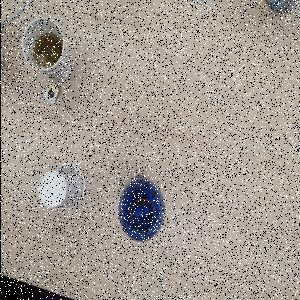Cup: (22, 18, 72, 85), (38, 164, 86, 212)
Plastic-bottle: (118, 176, 167, 244)
